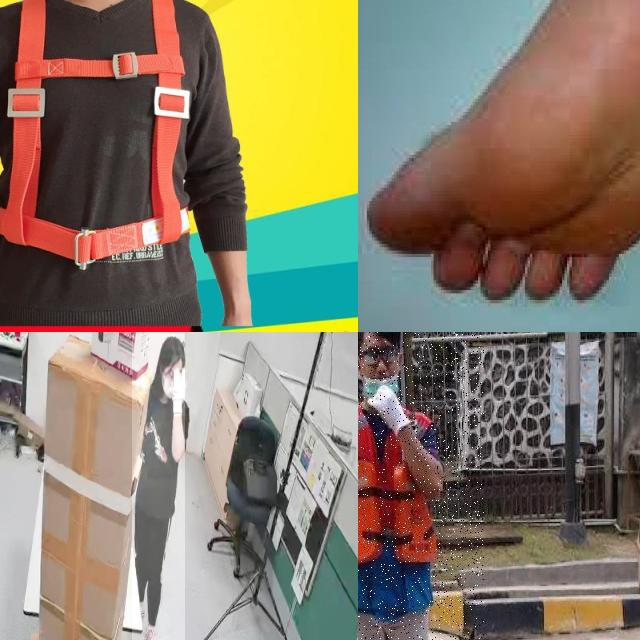Barefoots: (358, 0, 640, 332)
Harness: (0, 0, 197, 279)
hand_glove: (365, 384, 418, 454), (171, 355, 187, 417)
head_nohelmet: (160, 335, 186, 359)
person: (358, 332, 457, 640), (132, 332, 185, 640)
shoes: (143, 617, 163, 640)
vest: (358, 408, 442, 570)
